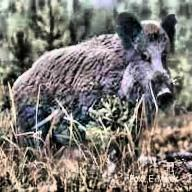boar: (15, 14, 185, 169)
